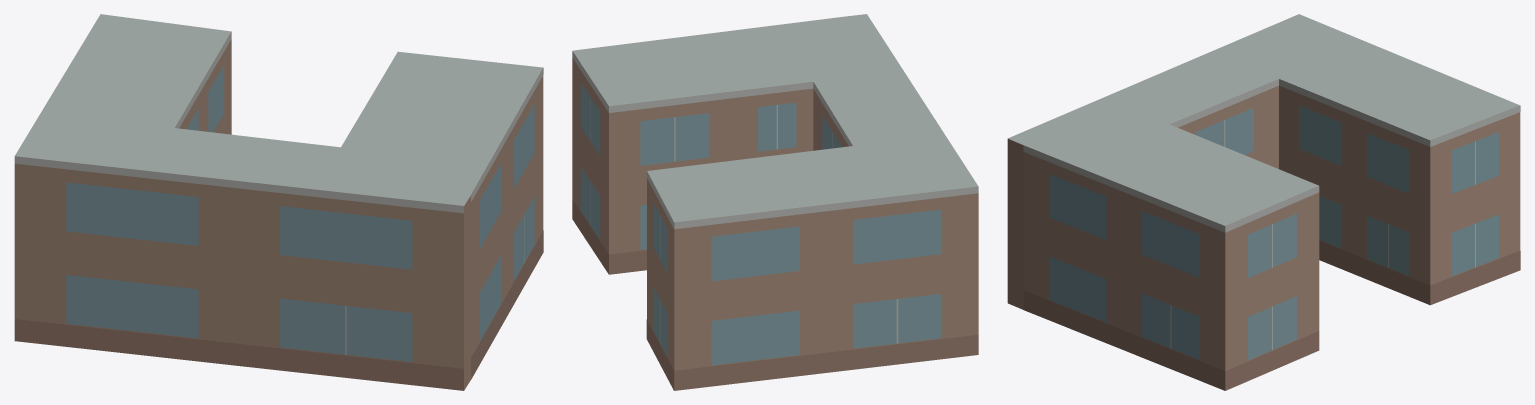
The model's file is survey-upis-32756296.glb.
3 views of the same model, side by side, from view 1: azimuth 30°, elevation 25°; view 2: azimuth 150°, elevation 25°; view 3: azimuth 270°, elevation 25° (orthographic). The views are drawn at different scales.
Parts seen in each view (by area): view 1: survey-upis-32756296.tmp; view 2: survey-upis-32756296.tmp; view 3: survey-upis-32756296.tmp.
Part boxes in pixels (x1,y1,x2,y2): survey-upis-32756296.tmp: (14, 14, 543, 390); survey-upis-32756296.tmp: (572, 14, 978, 390); survey-upis-32756296.tmp: (1007, 14, 1520, 390).
Size of the model in its own units: 16.84 by 6.1 by 17.21.
